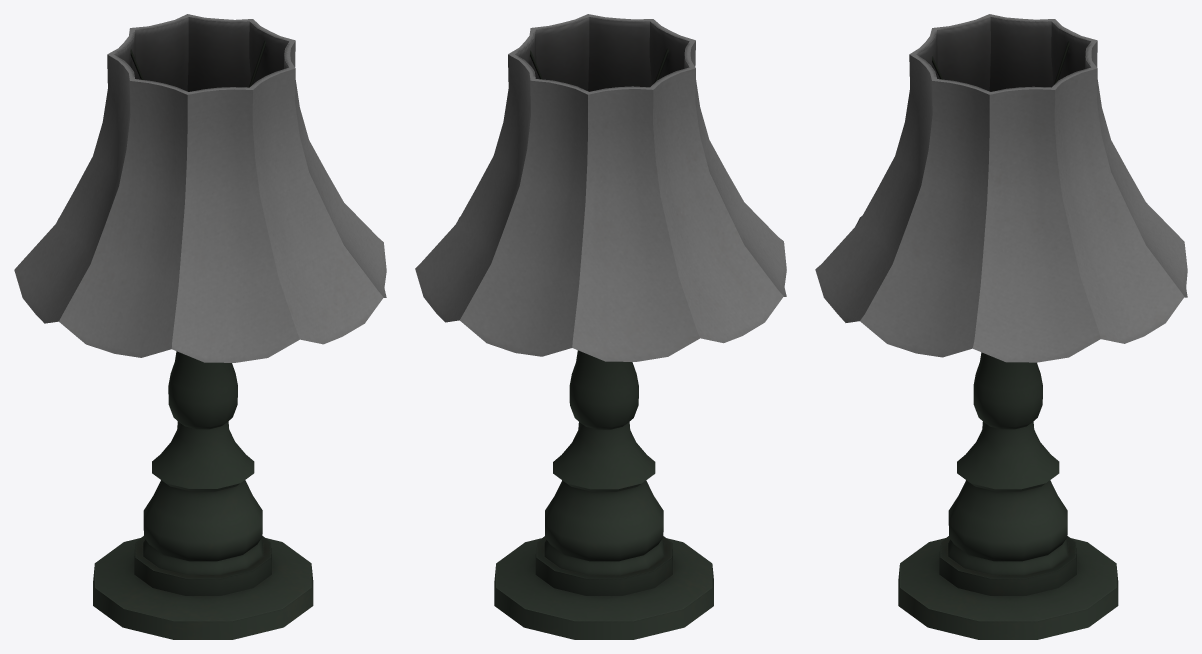
File: Lamp_04.fbx
3 views of the same model, side by side, from view 1: azimuth 30°, elevation 25°; view 2: azimuth 150°, elevation 25°; view 3: azimuth 270°, elevation 25° (orthographic).
Parts seen in each view (by area): view 1: Lamp_2; view 2: Lamp_2; view 3: Lamp_2.
Part boxes in pixels (x1,y1,x2,y2): Lamp_2: (14,14,386,639); Lamp_2: (415,14,786,639); Lamp_2: (815,14,1187,639).
Size of the model in its own units: 46.79 by 74.25 by 46.47.
Materials: 1 (1 with a texture image).
